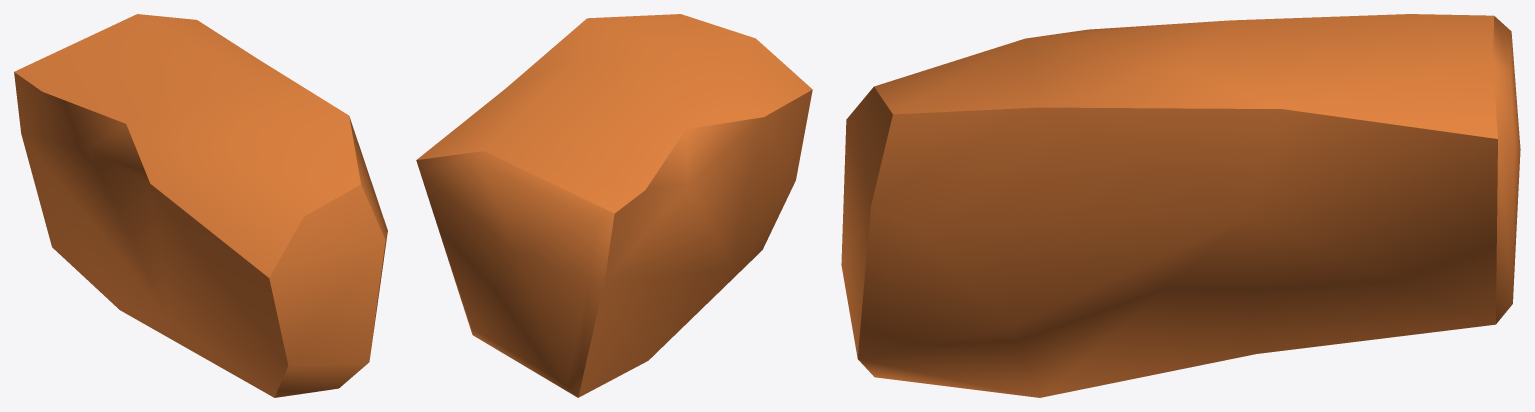
Rendered from stone23.glb.
The picture shows the model from 3 angles, left to right: view 1: azimuth 30°, elevation 25°; view 2: azimuth 150°, elevation 25°; view 3: azimuth 270°, elevation 25°; orthographic projection. The views are drawn at different scales.
Visible parts, largest first — view 1: Stone_4_Low; view 2: Stone_4_Low; view 3: Stone_4_Low.
Part boxes in pixels (bbox=[...]): Stone_4_Low: bbox=[14, 14, 387, 397]; Stone_4_Low: bbox=[416, 14, 812, 397]; Stone_4_Low: bbox=[841, 14, 1520, 397].
Size of the model in its own units: 0.5455 by 0.6486 by 1.17.
